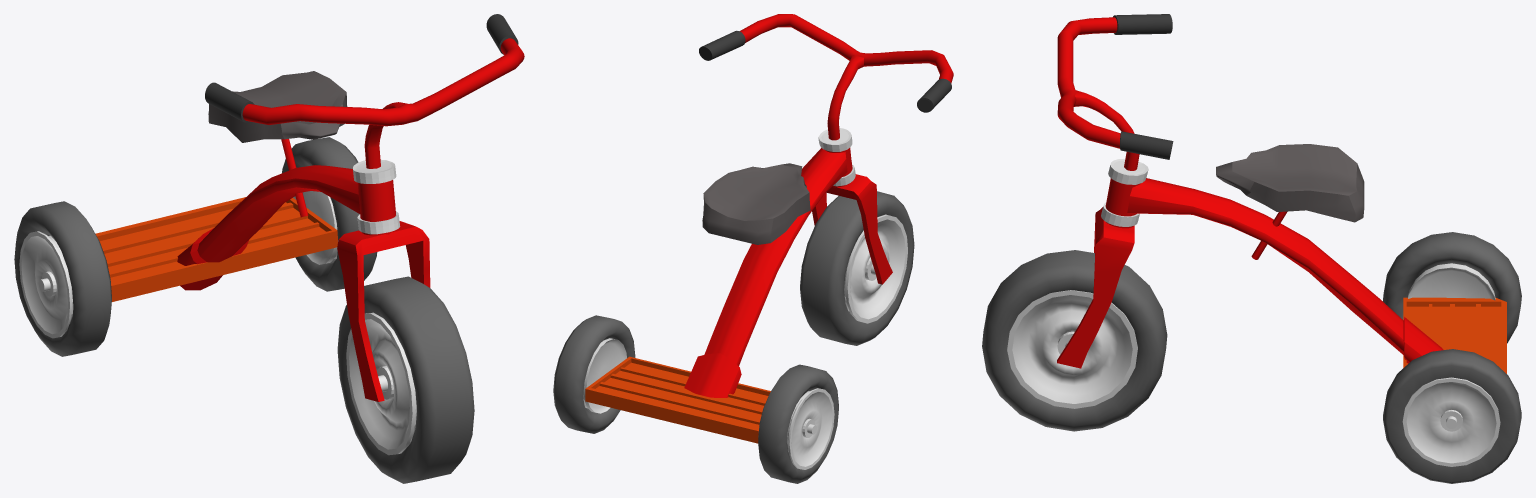
File: TrikeNOTShitty.fbx
3 views of the same model, side by side, from view 1: azimuth 30°, elevation 25°; view 2: azimuth 150°, elevation 25°; view 3: azimuth 270°, elevation 25° (orthographic). The views are drawn at different scales.
Parts seen in each view (by area): view 1: polySurface6; view 2: polySurface6; view 3: polySurface6.
Part boxes in pixels (x1=…): polySurface6: x1=14, y1=14, x2=524, y2=483; polySurface6: x1=553, y1=14, x2=953, y2=483; polySurface6: x1=982, y1=14, x2=1521, y2=483.
Bounding box in the file's own units: 66.85 × 82.06 × 113.
